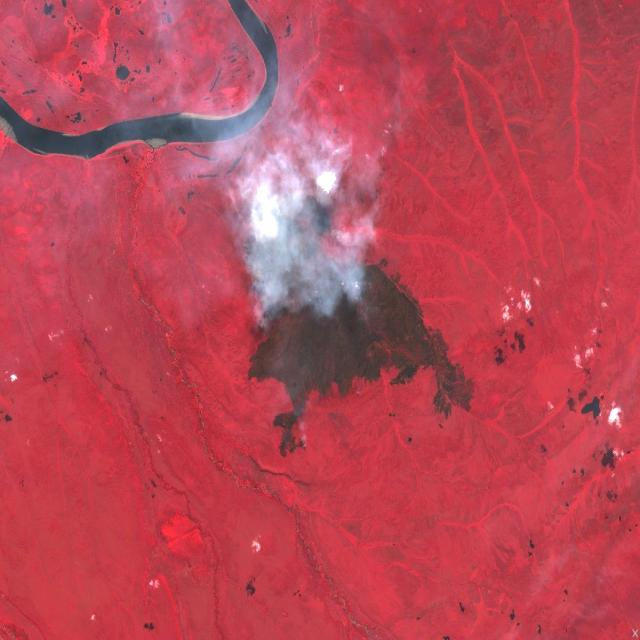fire: (232, 162, 336, 348)
